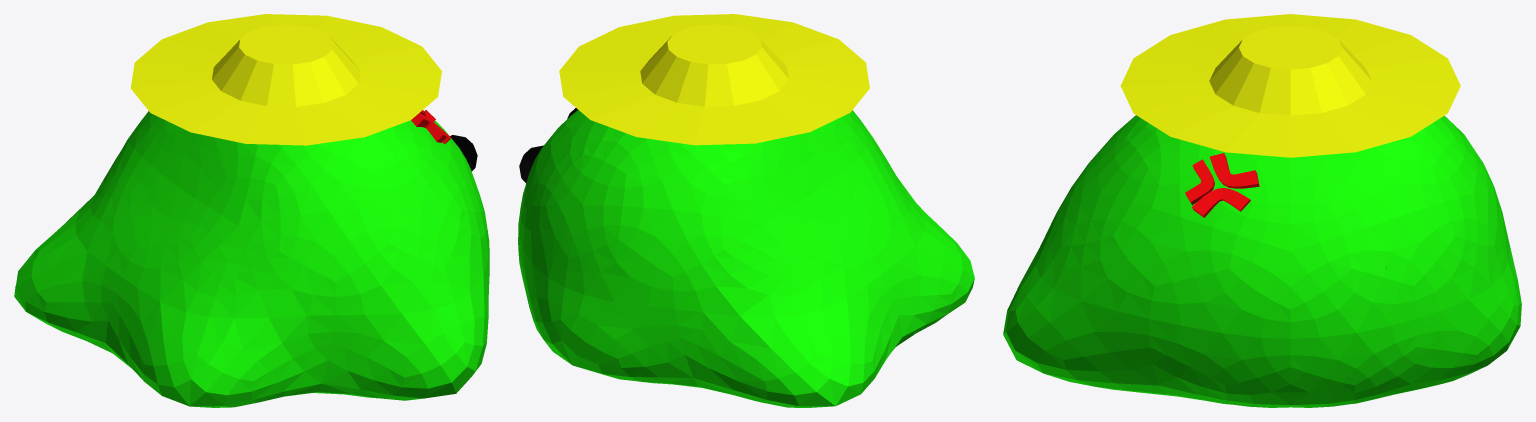
The model's file is SlimefarmHat1.fbx.
3 renders of one model, left to right at view 1: azimuth 30°, elevation 25°; view 2: azimuth 150°, elevation 25°; view 3: azimuth 270°, elevation 25°, orthographic. The views are drawn at different scales.
Parts seen in each view (by area): view 1: SLIME.001; view 2: SLIME.001; view 3: SLIME.001.
Boxes of the visible parts, <box> form: SLIME.001: <box>14,14,489,407</box>; SLIME.001: <box>518,14,974,407</box>; SLIME.001: <box>1003,14,1521,407</box>.
Bounding box in the file's own units: 90.36 × 65.25 × 99.79.
